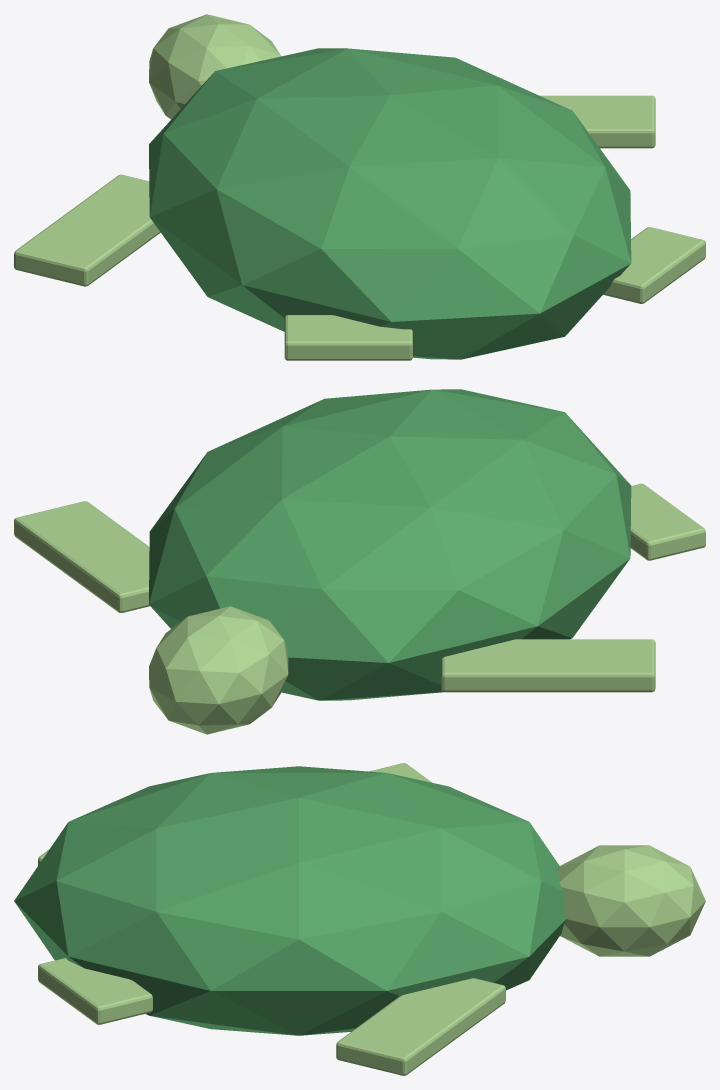
Rendered from Scuba_Turtle.fbx.
3 views of the same model, one above another, from view 1: azimuth 30°, elevation 25°; view 2: azimuth 150°, elevation 25°; view 3: azimuth 270°, elevation 25° (orthographic). The views are drawn at different scales.
Visible parts, largest first — view 1: Turtle; view 2: Turtle; view 3: Turtle.
Boxes of the visible parts, x1,y1,x2,y2 form: Turtle: (14, 14, 705, 360); Turtle: (14, 389, 705, 734); Turtle: (14, 763, 705, 1075).
Bounding box in the file's own units: 1.73 × 0.56 × 1.7.
